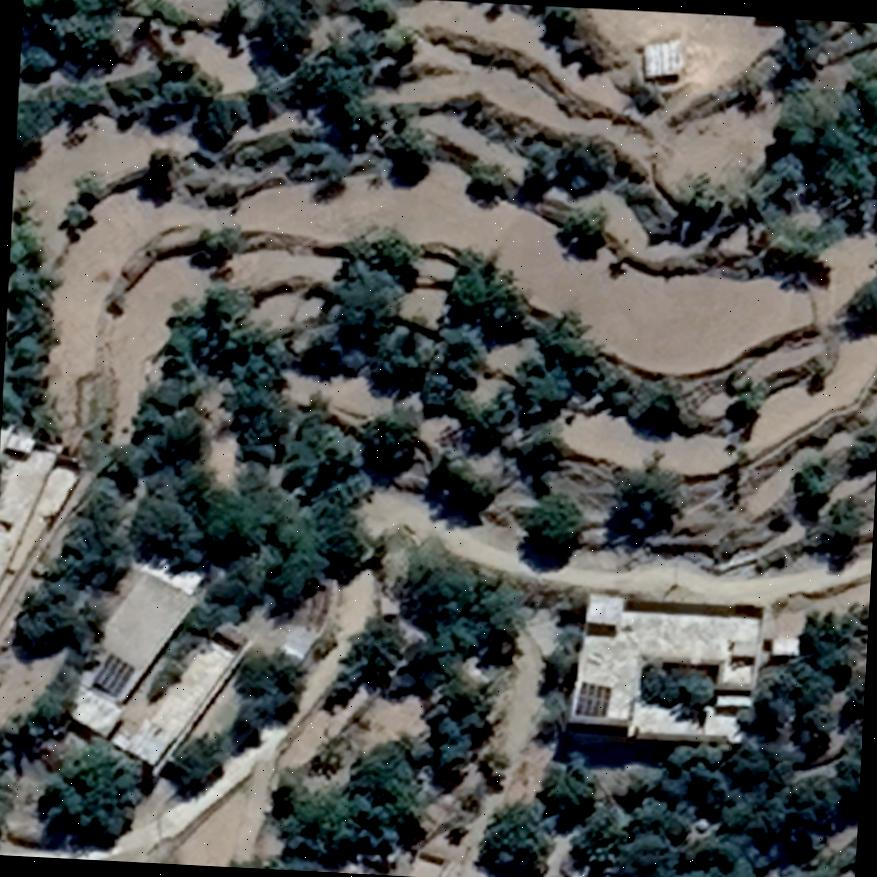Solarpanel: (89, 650, 134, 696), (572, 680, 612, 719)
